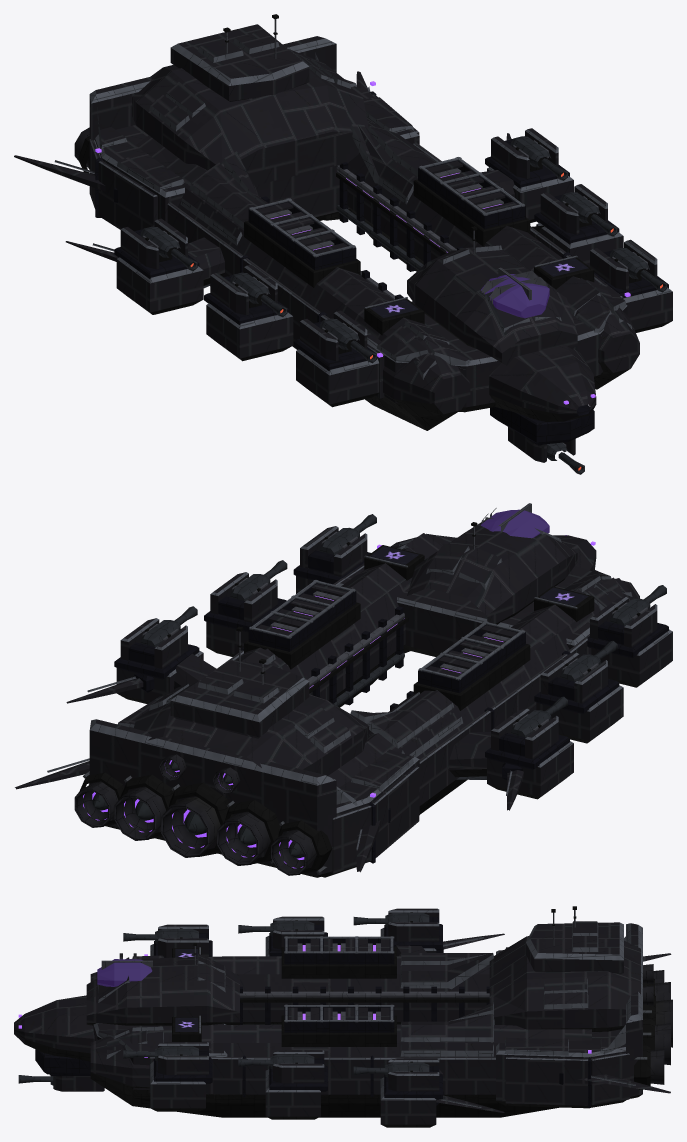
Rendered from eris-schiff4.glb.
The picture shows the model from 3 angles, top to bottom: view 1: azimuth 30°, elevation 25°; view 2: azimuth 150°, elevation 25°; view 3: azimuth 270°, elevation 25°; orthographic projection. The views are drawn at different scales.
Parts seen in each view (by area): view 1: Hull_LOD0, Laser_06, Laser_02, Laser_04, Laser_03, Laser_05, Laser_01; view 2: Hull_LOD0, Laser_04, Laser_01, Laser_05, Laser_06, Laser_02, Laser_03; view 3: Hull_LOD0, Laser_05, Laser_03, Laser_02, Laser_01, Laser_06, Laser_04, Faction_Insignia_Left.
Boxes of the visible parts, x1,y1,x2,y2 form: Hull_LOD0: (14,14,672,462); Laser_06: (140,226,197,271); Laser_02: (319,318,376,363); Laser_04: (230,272,287,317); Laser_03: (560,192,617,236); Laser_05: (511,136,567,180); Laser_01: (610,248,666,292); Hull_LOD0: (15,503,672,877); Laser_04: (560,641,617,681); Laser_01: (319,514,376,554); Laser_05: (140,606,197,646); Laser_06: (511,696,567,737); Laser_02: (610,585,666,625); Laser_03: (230,560,287,600); Hull_LOD0: (14,906,672,1127); Laser_05: (353,1061,429,1077); Laser_03: (238,1053,314,1069); Laser_02: (123,928,198,943); Laser_01: (123,1045,198,1061); Laser_06: (353,912,429,927); Laser_04: (238,920,314,935); Faction_Insignia_Left: (175,1017,198,1031).
Bounding box in the file's own units: 39.78 × 18.86 × 61.8.
6 materials, 4 textured.
